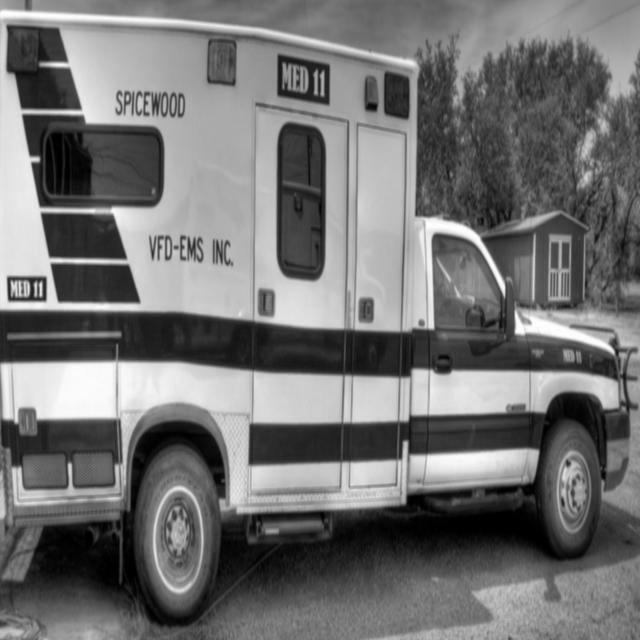Ambulance: (0, 10, 631, 628)
